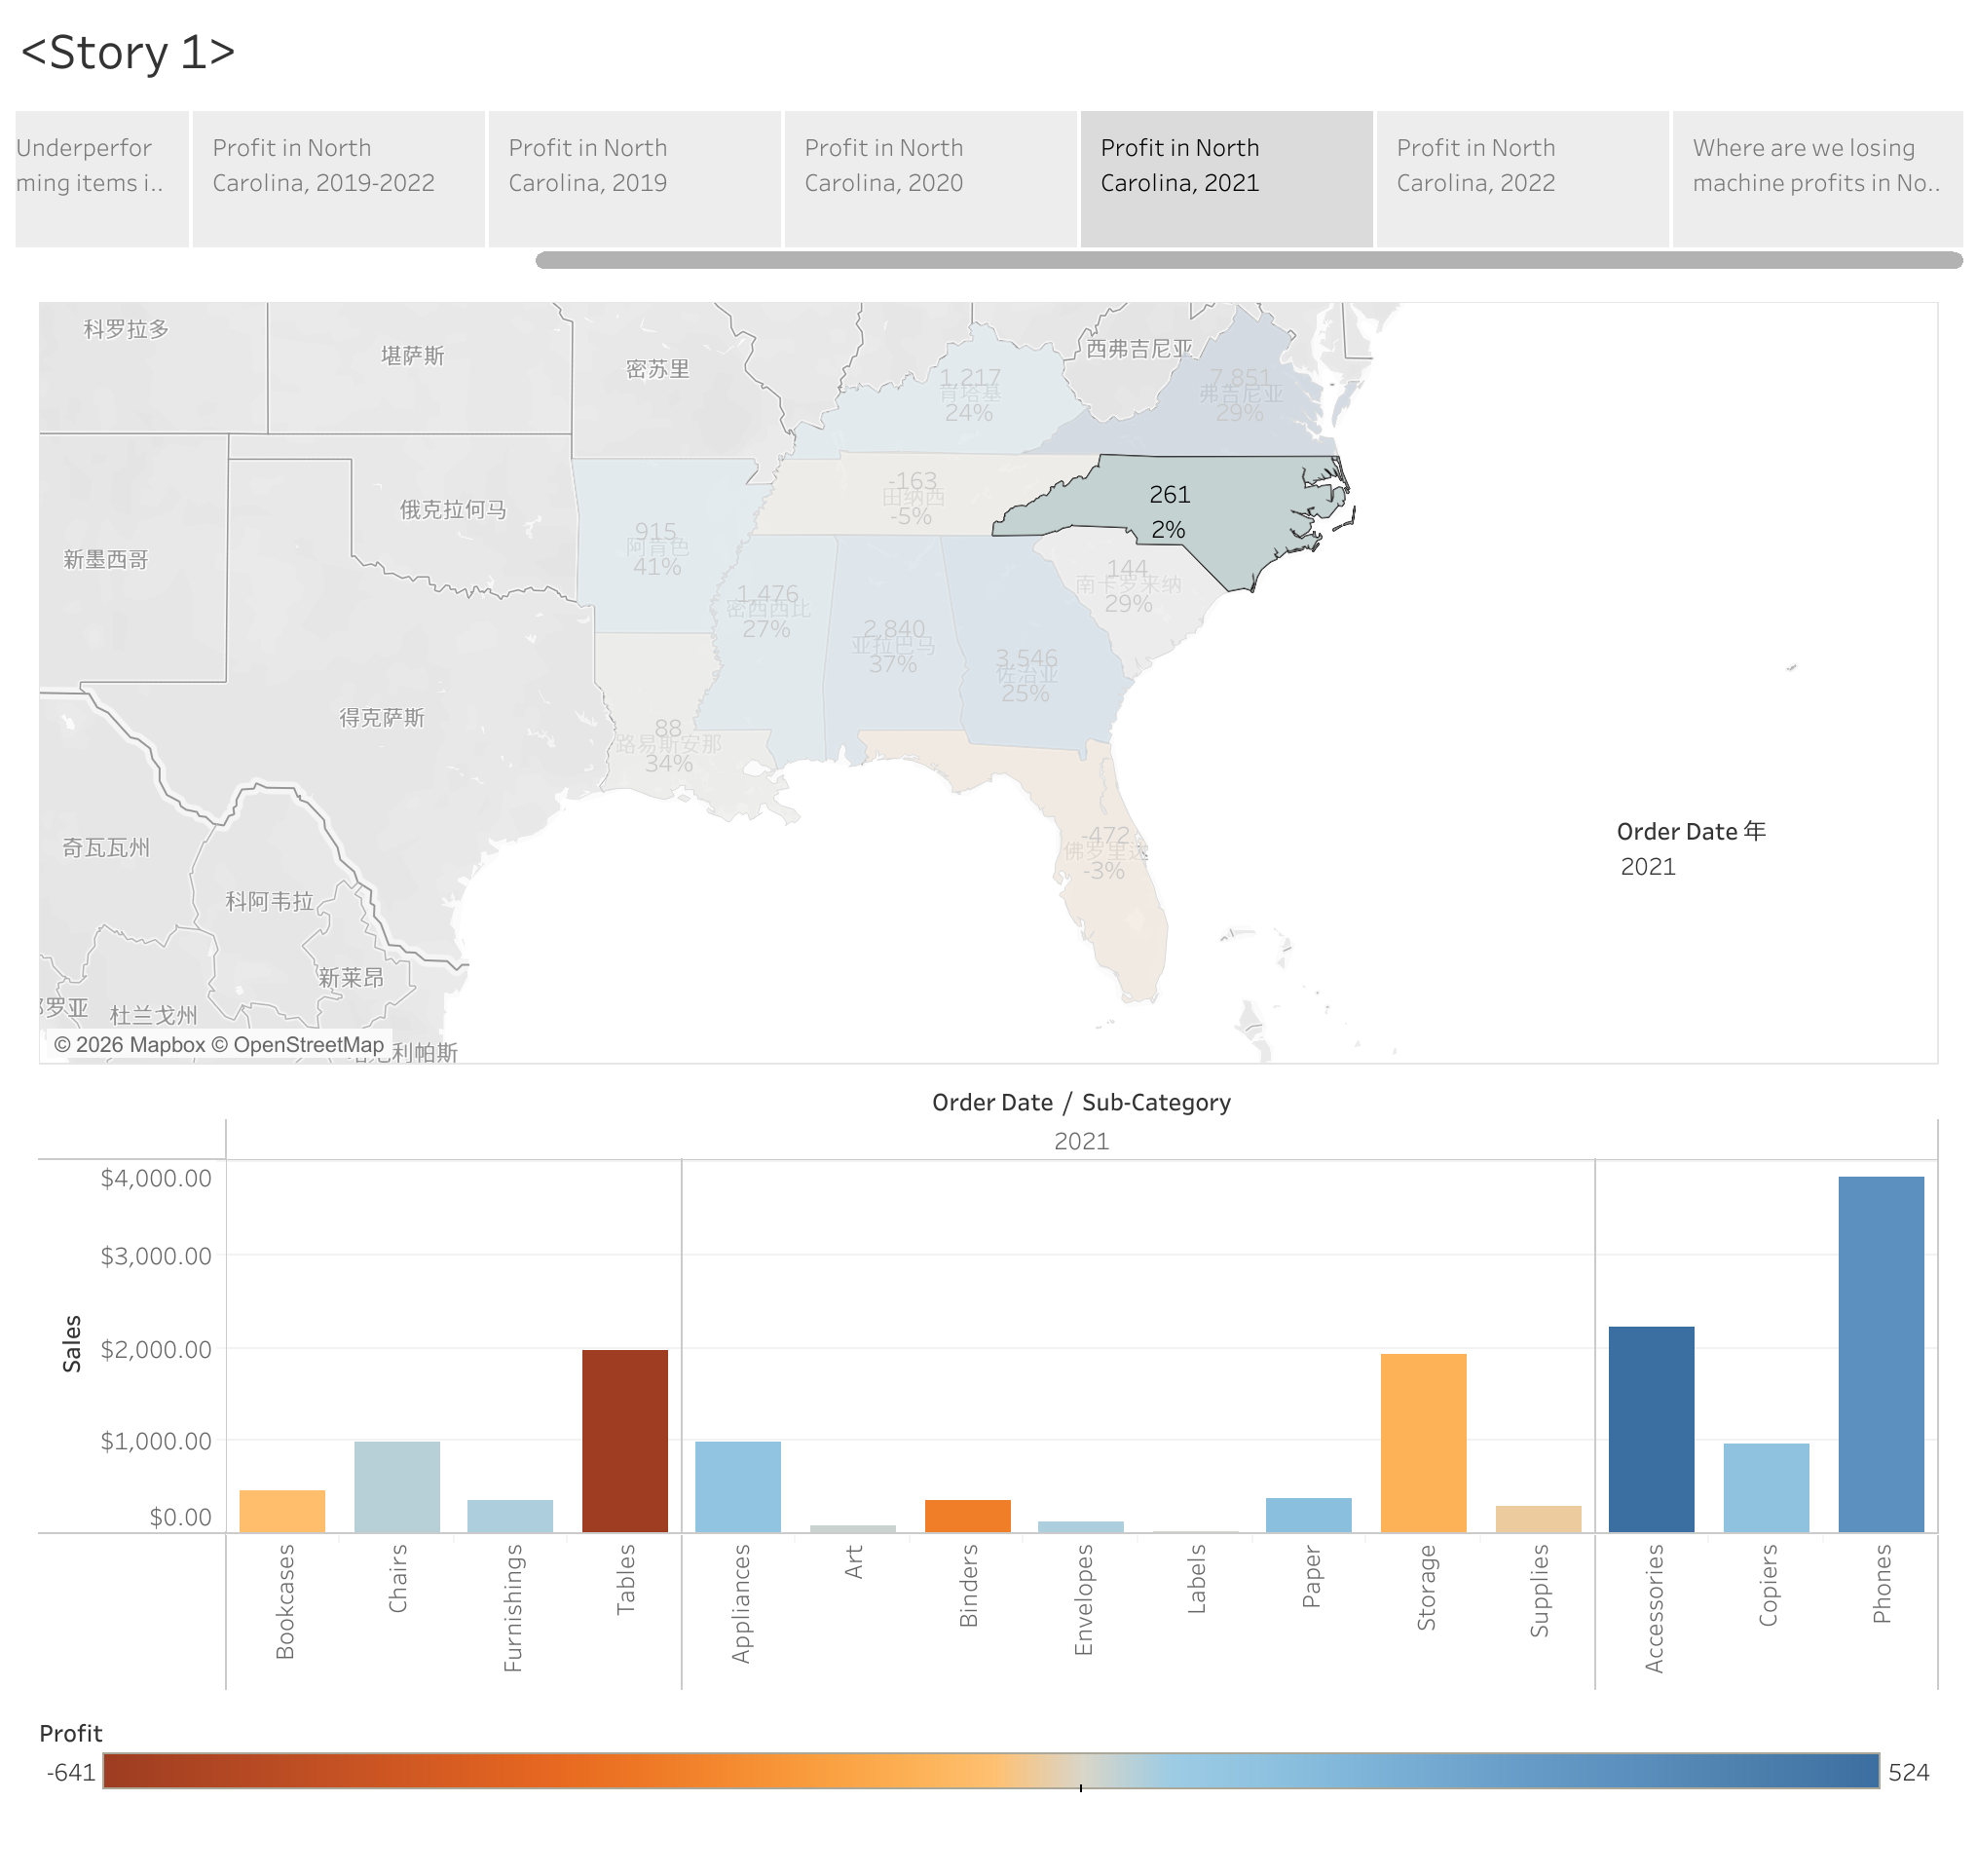

The dashboard page shown, as its layout file describes it:
{"tool":"tableau","page":{"name":"Regional Sales and Profit","canvas":[1000,814],"ordinal":0},"visuals":[{"type":"worksheet","title":"Profit Map","mark":"Automatic","box":[8,8,984,399.8]},{"type":"filter","title":"Profit Map","param":"[Sample - Superstore].[yr:Order Date:ok]","box":[822,272.7,168,60]},{"type":"worksheet","title":"Sales in the South","mark":"Automatic","rows":["Region","Sales"],"cols":["Order Date","Category","Sub-Category"],"box":[8,407.8,984,321.7]},{"type":"legend","title":"Sales in the South","param":"[Sample - Superstore].[sum:Profit:qk]","box":[8,729.5,984,76.5]}]}

Visuals, with their boxes on the page's 1000x814 design canvas (x1, y1, x2, y2). These are canvas units, not pixel positions in the 1977x1876 screenshot, which may show the page scaled, cropped or inside an application window:
"Profit Map" worksheet: 8,8,992,408
"Profit Map" filter: 822,273,990,333
"Sales in the South" worksheet: 8,408,992,730
"Sales in the South" legend: 8,730,992,806
